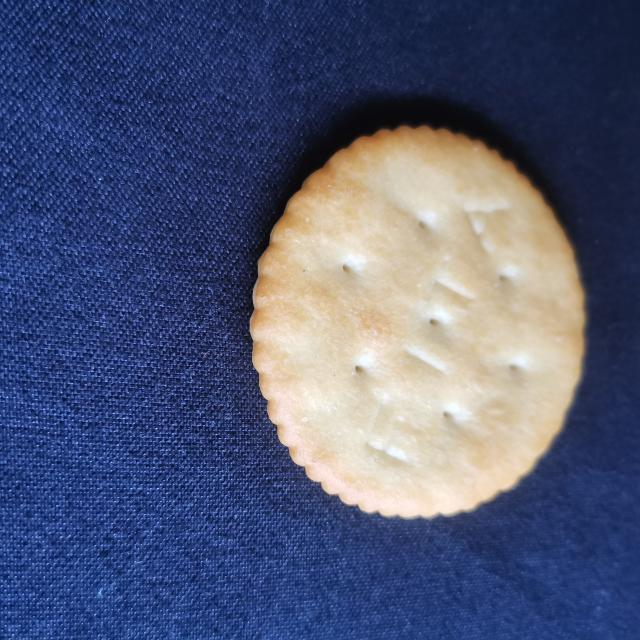Intact: (242, 116, 600, 530)
